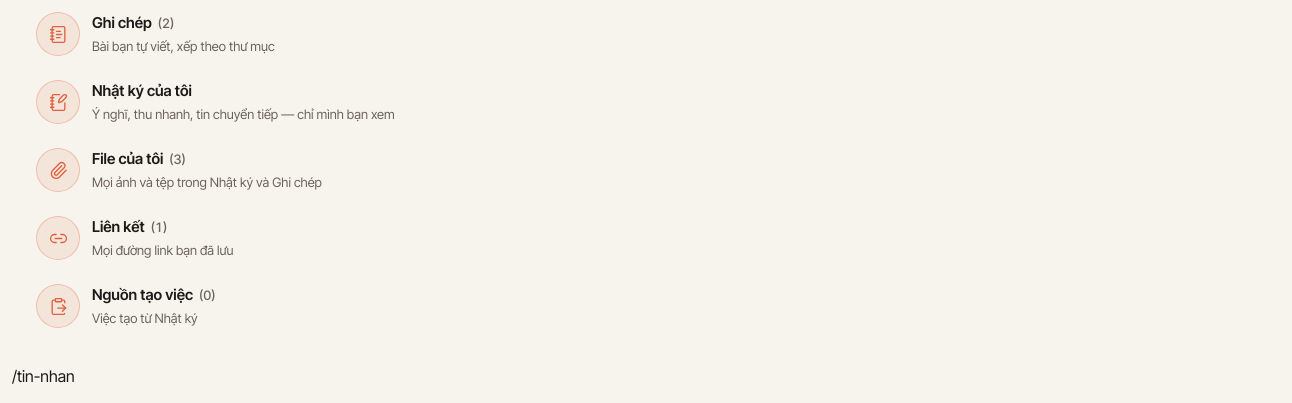
a row opens its reading of the journal
Click the link "File của tôi(3) Mọi ảnh và tệp trong Nhật ký và Ghi chép".
click(179, 170)  # box 36,148 -> 322,192
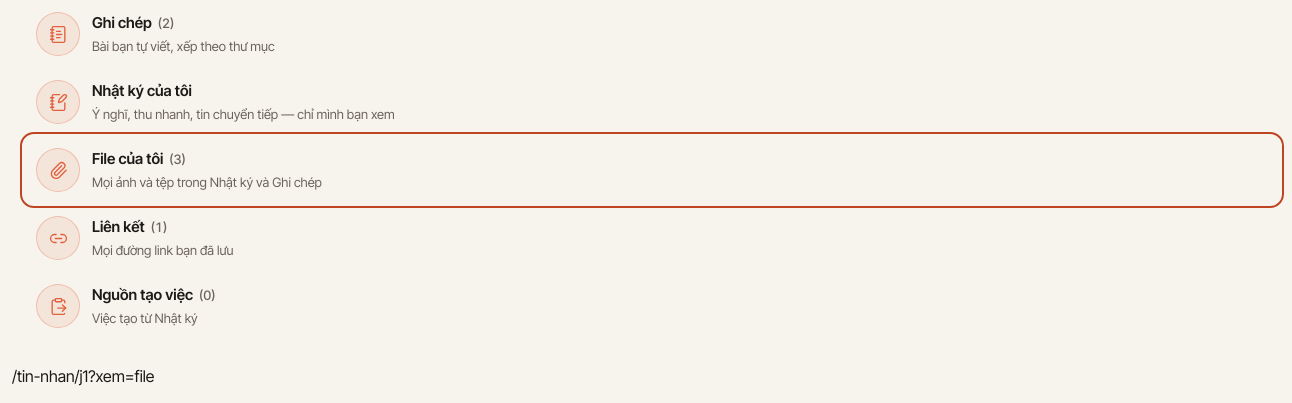
Expected: the text with test id "where" reads "/tin-nhan/j1?xem=file", 12,366 -> 154,386
